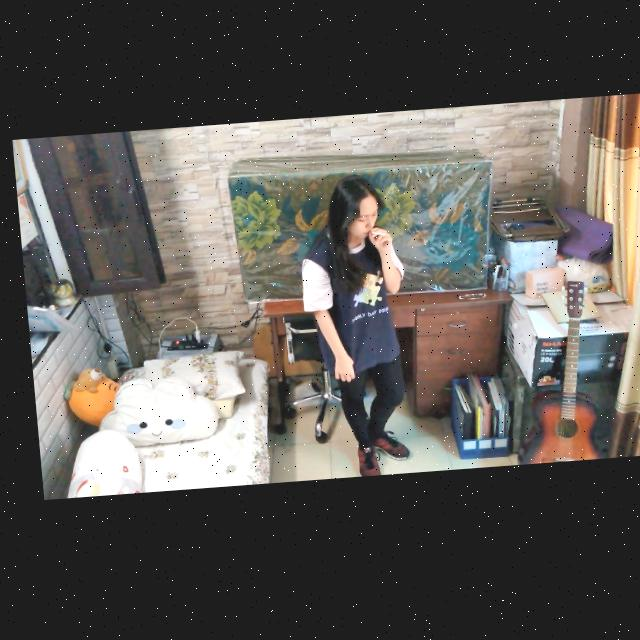cigarette: (366, 237, 382, 242)
